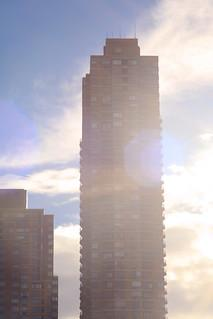building: (76, 34, 168, 318)
